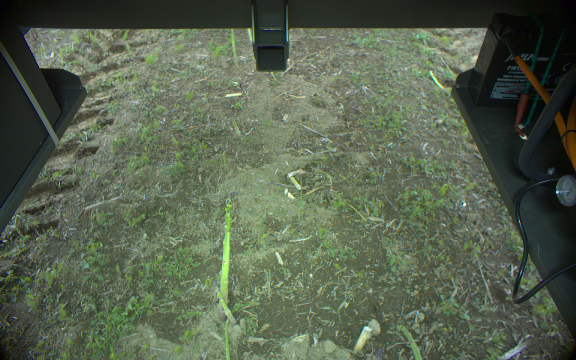aspa: (217, 195, 242, 320), (220, 300, 260, 360), (211, 278, 240, 327), (393, 325, 426, 360), (226, 27, 239, 69), (227, 116, 241, 138), (245, 26, 252, 40)
